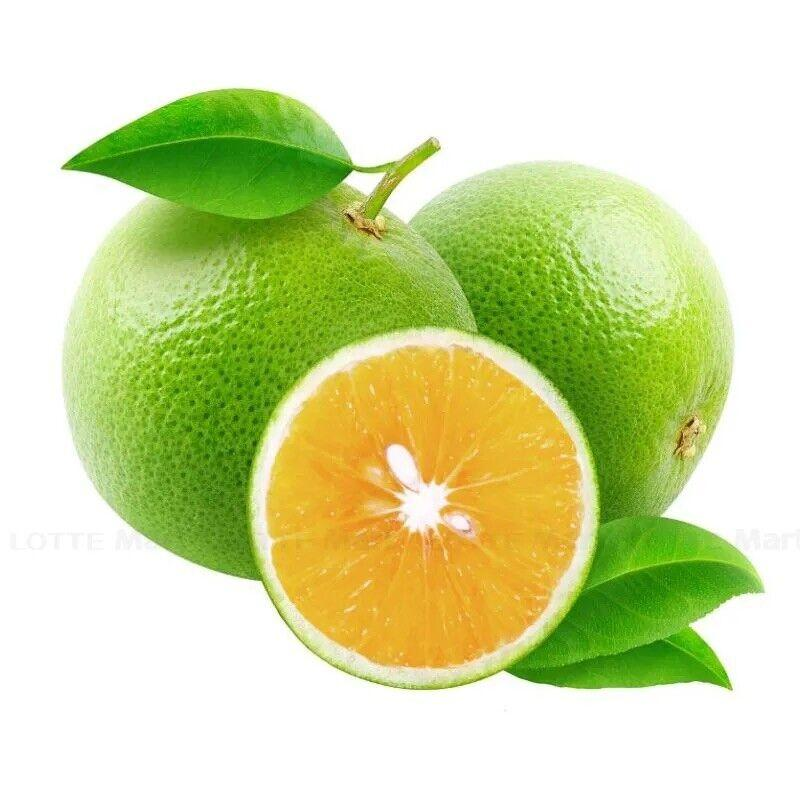non-mango: (60, 177, 480, 581), (246, 325, 601, 690), (406, 158, 735, 522)
